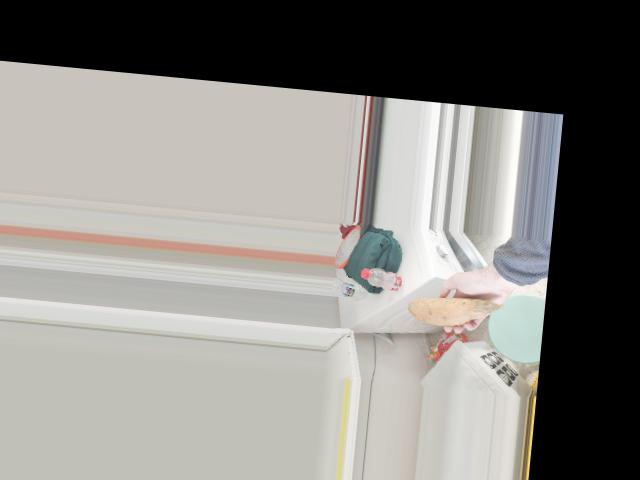sweet_potato: (415, 293, 497, 331)
